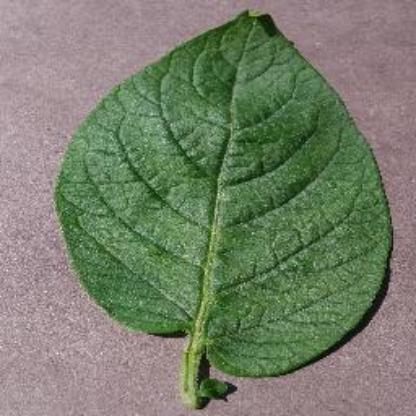Healthy-plant: (48, 7, 390, 408)
